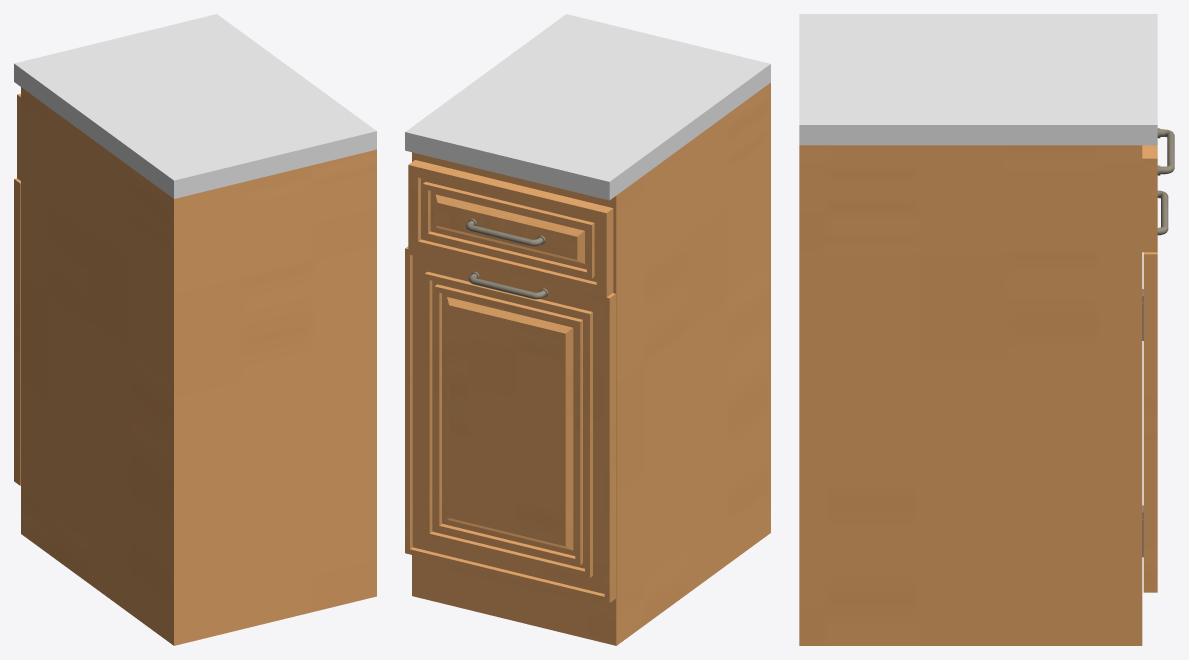
The model's file is CabinetB04.glb.
The picture shows the model from 3 angles, left to right: view 1: azimuth 30°, elevation 25°; view 2: azimuth 150°, elevation 25°; view 3: azimuth 270°, elevation 25°; orthographic projection. The views are drawn at different scales.
Visible parts, largest first — view 1: CabinetB04_model, CabinetB04Door; view 2: CabinetB04_model, CabinetB04Door, CabinetB04Drawer01; view 3: CabinetB04_model, CabinetB04Door, CabinetB04Drawer01.
Part boxes in pixels (x1,y1,x2,y2): CabinetB04_model: [14, 14, 376, 645]; CabinetB04Door: [14, 178, 20, 485]; CabinetB04_model: [405, 14, 770, 645]; CabinetB04Door: [405, 246, 615, 602]; CabinetB04Drawer01: [408, 160, 613, 297]; CabinetB04_model: [799, 14, 1157, 645]; CabinetB04Door: [1142, 190, 1168, 592]; CabinetB04Drawer01: [1142, 128, 1174, 252].
Bounding box in the file's own units: 0.9256 × 2.02 × 1.32.
1 material, 1 textured.
